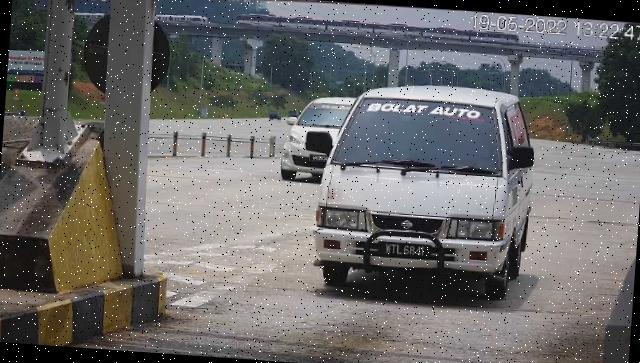License_Plate: (377, 239, 434, 263)
van: (312, 79, 540, 303)
